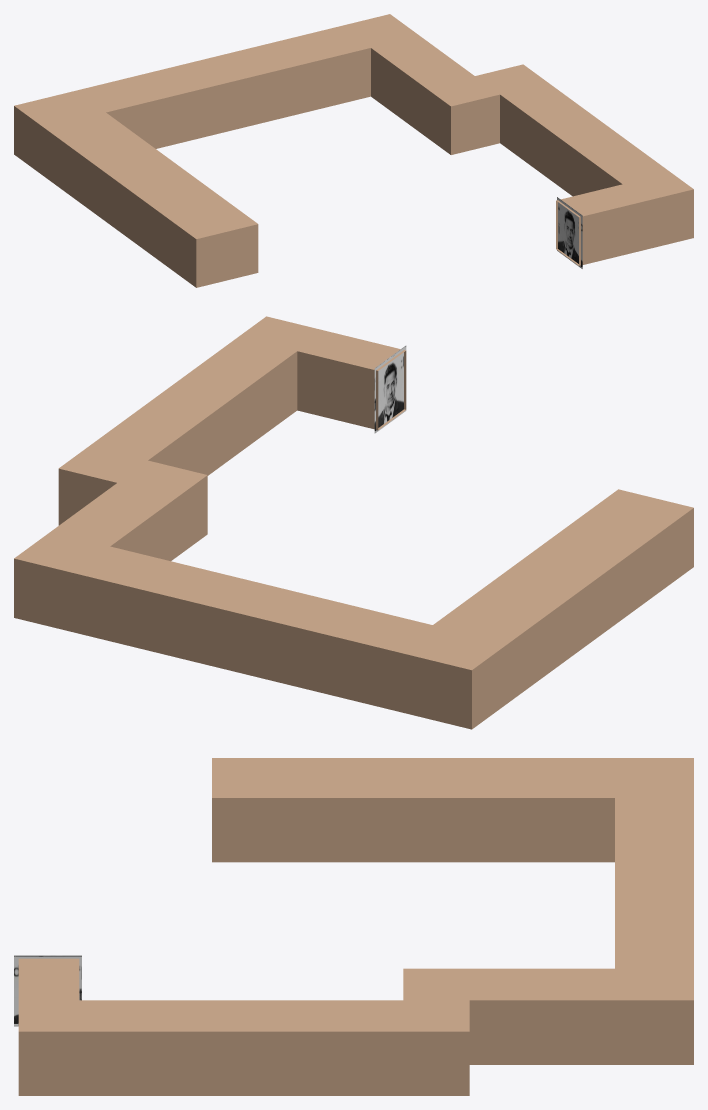
File: robert.glb
The picture shows the model from 3 angles, top to bottom: view 1: azimuth 30°, elevation 25°; view 2: azimuth 150°, elevation 25°; view 3: azimuth 270°, elevation 25°; orthographic projection. The views are drawn at different scales.
Parts seen in each view (by area): view 1: Cube, Plane; view 2: Cube, Plane; view 3: Cube, Plane.
Boxes of the visible parts, bbox=[...] form: Cube: bbox=[14, 14, 693, 287]; Plane: bbox=[557, 197, 582, 268]; Cube: bbox=[14, 316, 693, 729]; Plane: bbox=[374, 345, 406, 433]; Cube: bbox=[18, 758, 693, 1095]; Plane: bbox=[14, 955, 81, 1026].
Bounding box in the file's own units: 164 × 19.92 × 172.
Materials: 2 (2 with a texture image).
